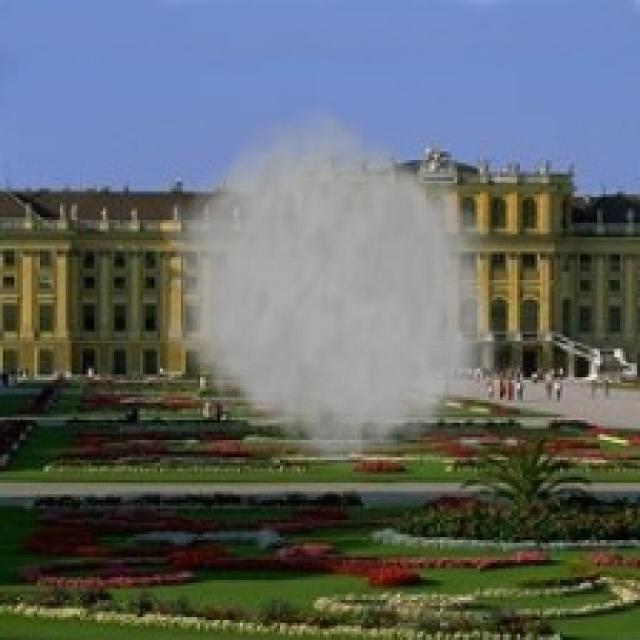smoke: (163, 97, 514, 480)
